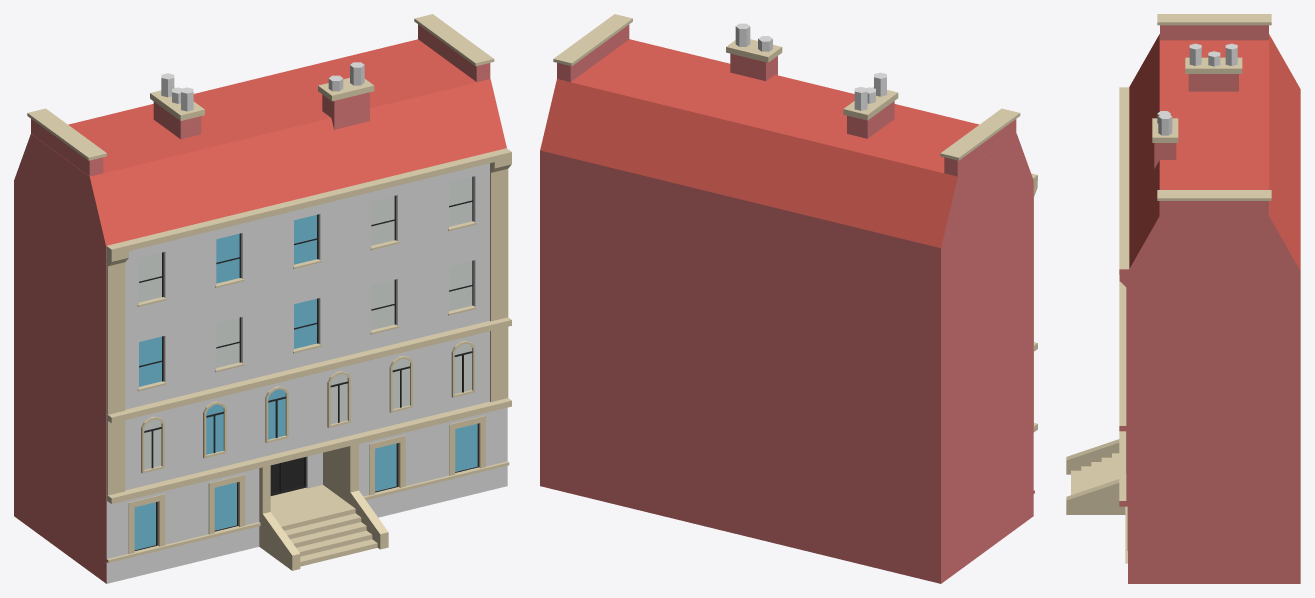
File: Bloc_11F.fbx
The picture shows the model from 3 angles, left to right: view 1: azimuth 30°, elevation 25°; view 2: azimuth 150°, elevation 25°; view 3: azimuth 270°, elevation 25°; orthographic projection. The views are drawn at different scales.
Visible parts, largest first — view 1: Bloc_11F; view 2: Bloc_11F; view 3: Bloc_11F.
Boxes of the visible parts, box(x1,y1,x2,y2) form: Bloc_11F: box(14, 14, 511, 583); Bloc_11F: box(540, 14, 1037, 583); Bloc_11F: box(1066, 14, 1300, 583).
Bounding box in the file's own units: 815 × 1567 × 1517.
